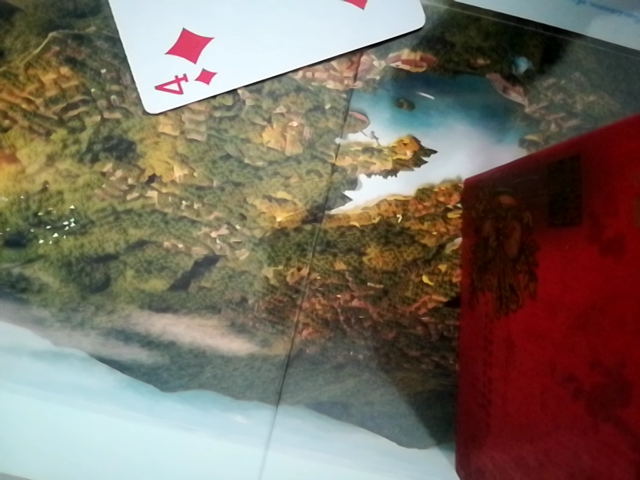fk 4: (70, 0, 439, 117)
